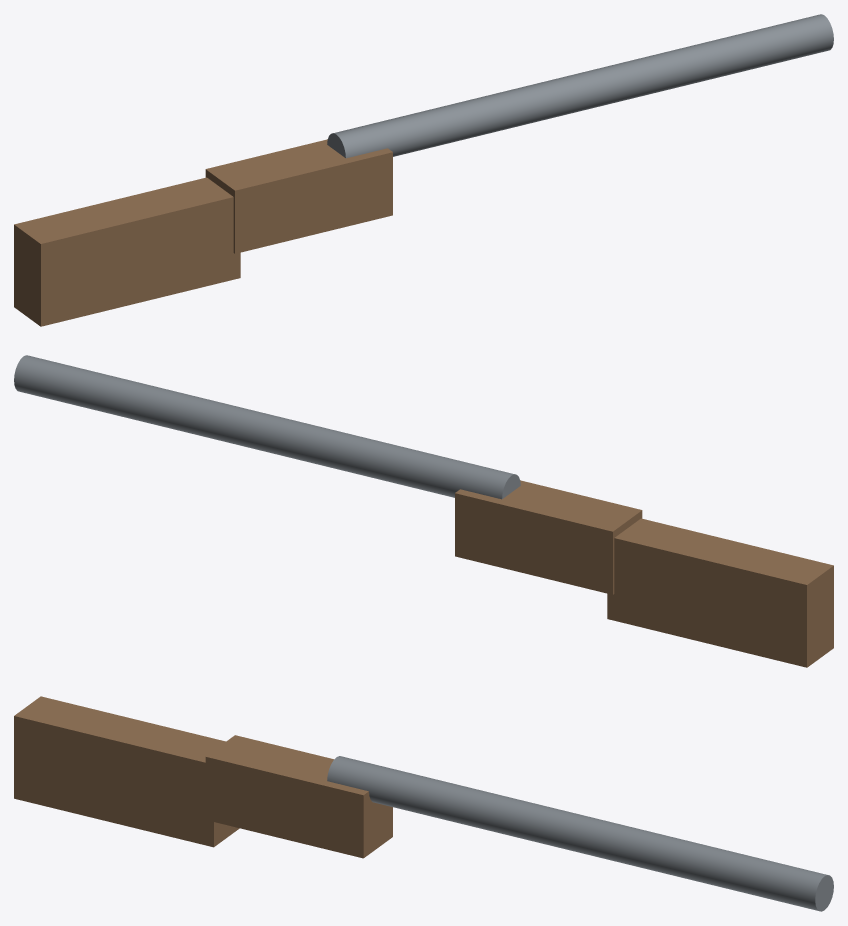
Rendered from bolt_action_rifle.glb.
3 views of the same model, one above another, from view 1: azimuth 30°, elevation 25°; view 2: azimuth 150°, elevation 25°; view 3: azimuth 330°, elevation 25° (orthographic).
Parts seen in each view (by area): view 1: world; view 2: world; view 3: world.
Boxes of the visible parts, bbox=[...] form: world: bbox=[14, 14, 833, 326]; world: bbox=[14, 355, 833, 667]; world: bbox=[14, 696, 833, 911].
Bounding box in the file's own units: 1.71 × 0.22 × 0.11.
